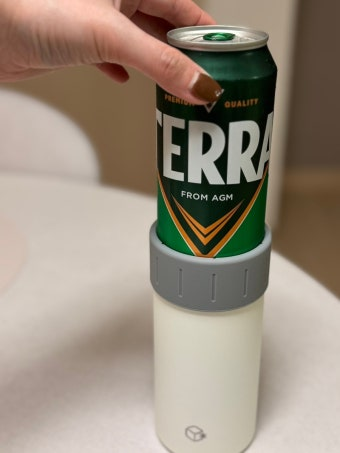paper: (154, 27, 270, 258)
